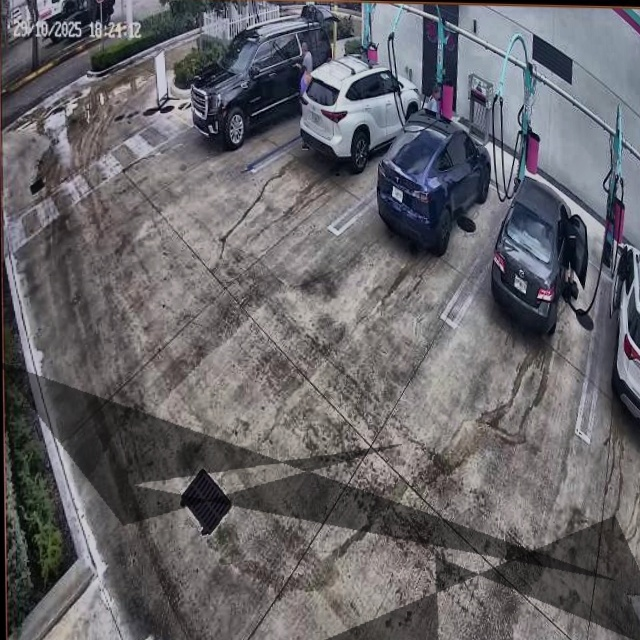Car: (376, 108, 496, 252), (486, 176, 591, 327), (300, 57, 424, 166)
